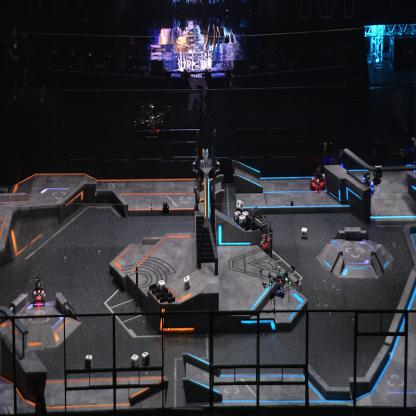car: (248, 209, 274, 254), (309, 165, 327, 192), (31, 276, 46, 307), (360, 170, 376, 196)
